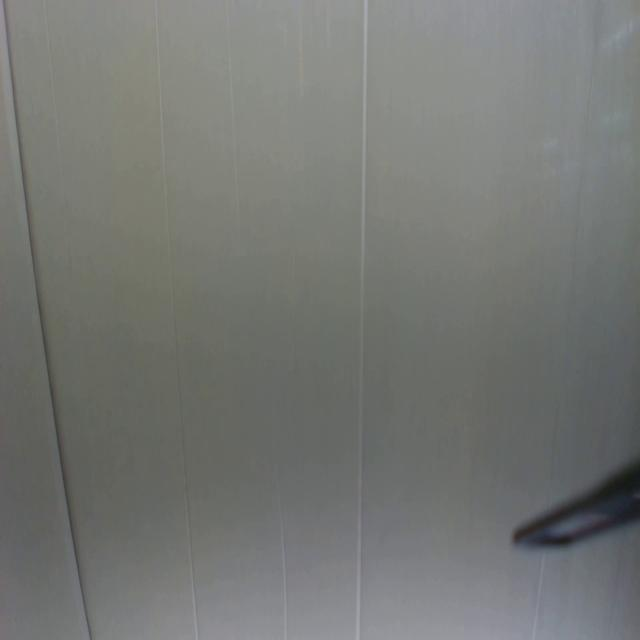crease: (4, 1, 92, 640), (155, 0, 199, 640), (548, 0, 602, 474), (356, 0, 370, 640), (44, 0, 66, 189), (225, 0, 242, 216), (276, 489, 288, 640), (531, 552, 548, 639)
